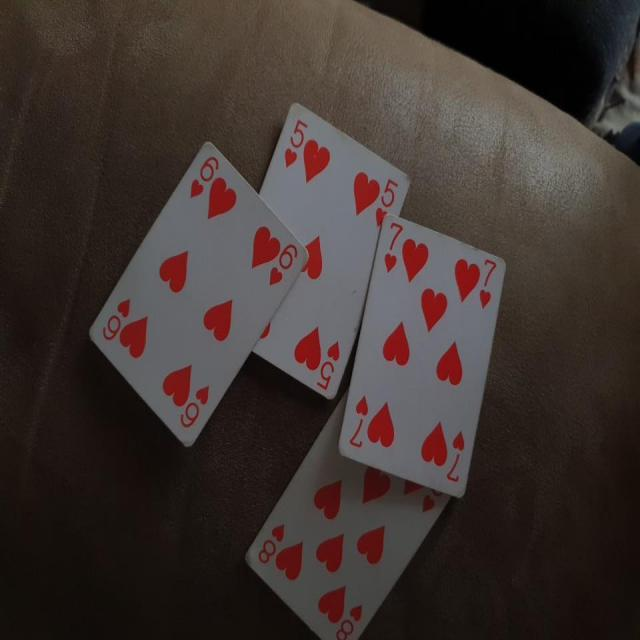5 of hearts: (247, 90, 410, 400)
6 of hearts: (92, 138, 306, 458)
7 of hearts: (333, 208, 510, 502)
8 of hearts: (234, 392, 462, 640)
